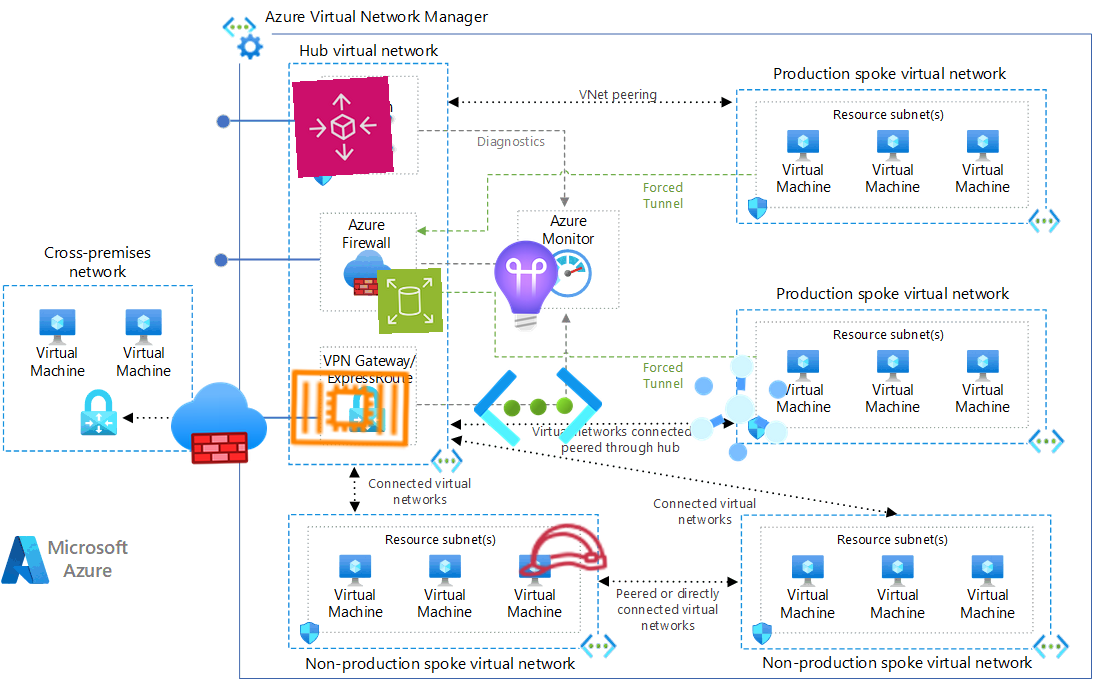aws_amazon_elastic_block_store: (377, 268, 443, 334)
aws_auto_scaling: (292, 76, 394, 178)
aws_elastic_container_service_container_2: (284, 342, 416, 474)
aws_identity_access_management_role: (511, 499, 613, 601)
azure_application_insights: (477, 237, 575, 335)
azure_firewalls: (169, 373, 269, 473)
azure_virtual_networks: (471, 340, 605, 474)
gcp_pubsub: (673, 341, 807, 475)
